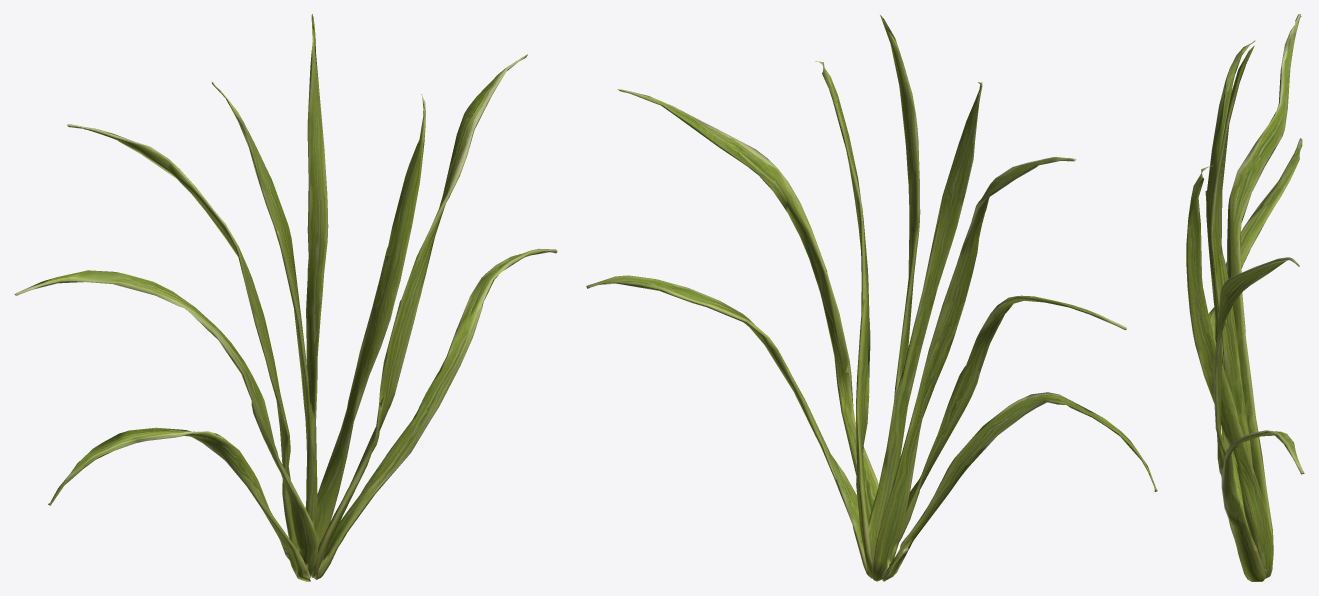
Rendered from grass-v1.glb.
The picture shows the model from 3 angles, left to right: view 1: azimuth 30°, elevation 25°; view 2: azimuth 150°, elevation 25°; view 3: azimuth 270°, elevation 25°; orthographic projection. The views are drawn at different scales.
Parts seen in each view (by area): view 1: grass_plant; view 2: grass_plant; view 3: grass_plant.
Boxes of the visible parts, bbox=[...] form: grass_plant: bbox=[14, 14, 557, 581]; grass_plant: bbox=[586, 15, 1157, 581]; grass_plant: bbox=[1186, 14, 1304, 581].
Bounding box in the file's own units: 0.2008 × 0.2 × 0.0401.
1 material, 1 textured.
